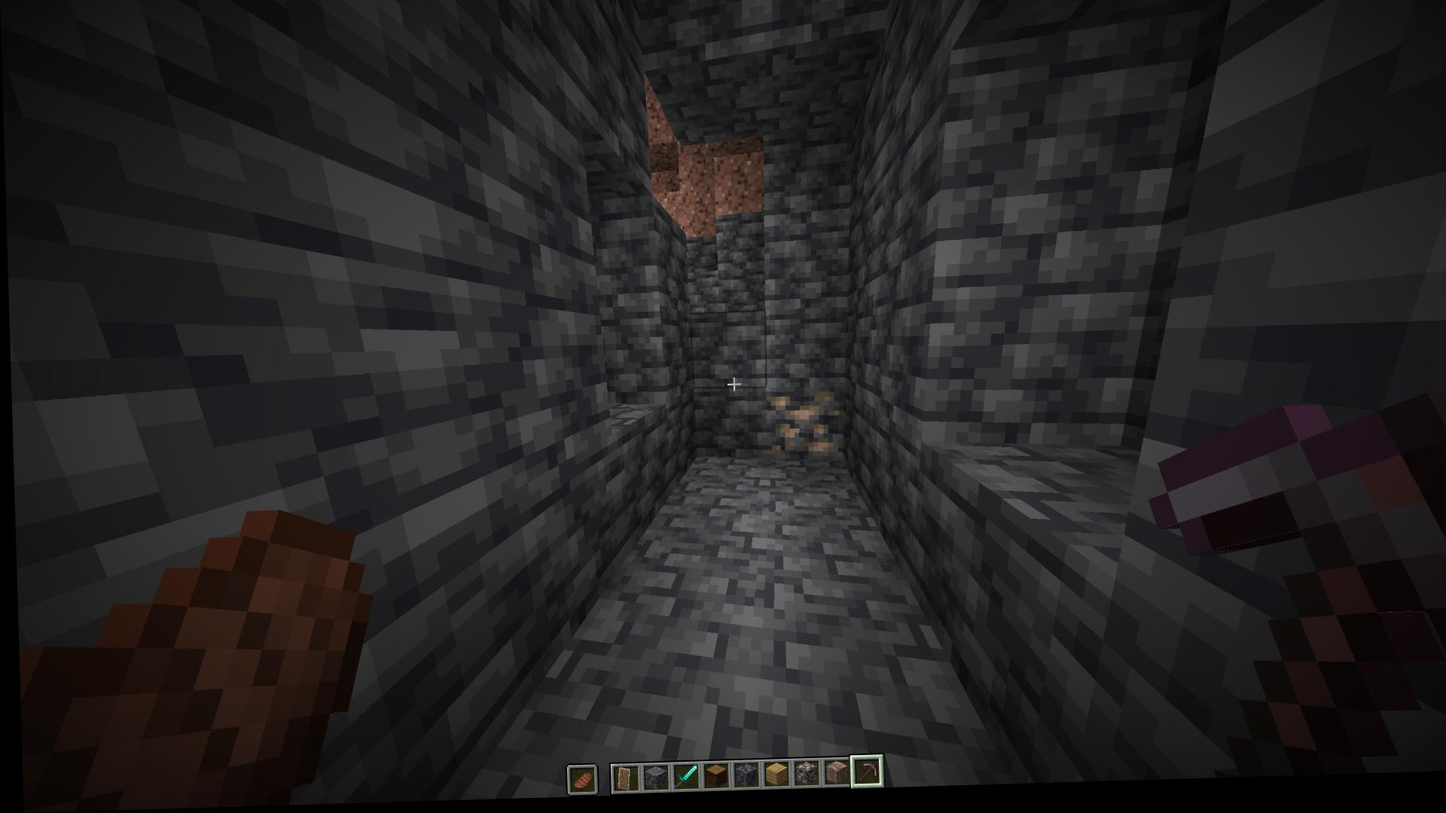iron ore: (766, 398, 843, 459)
